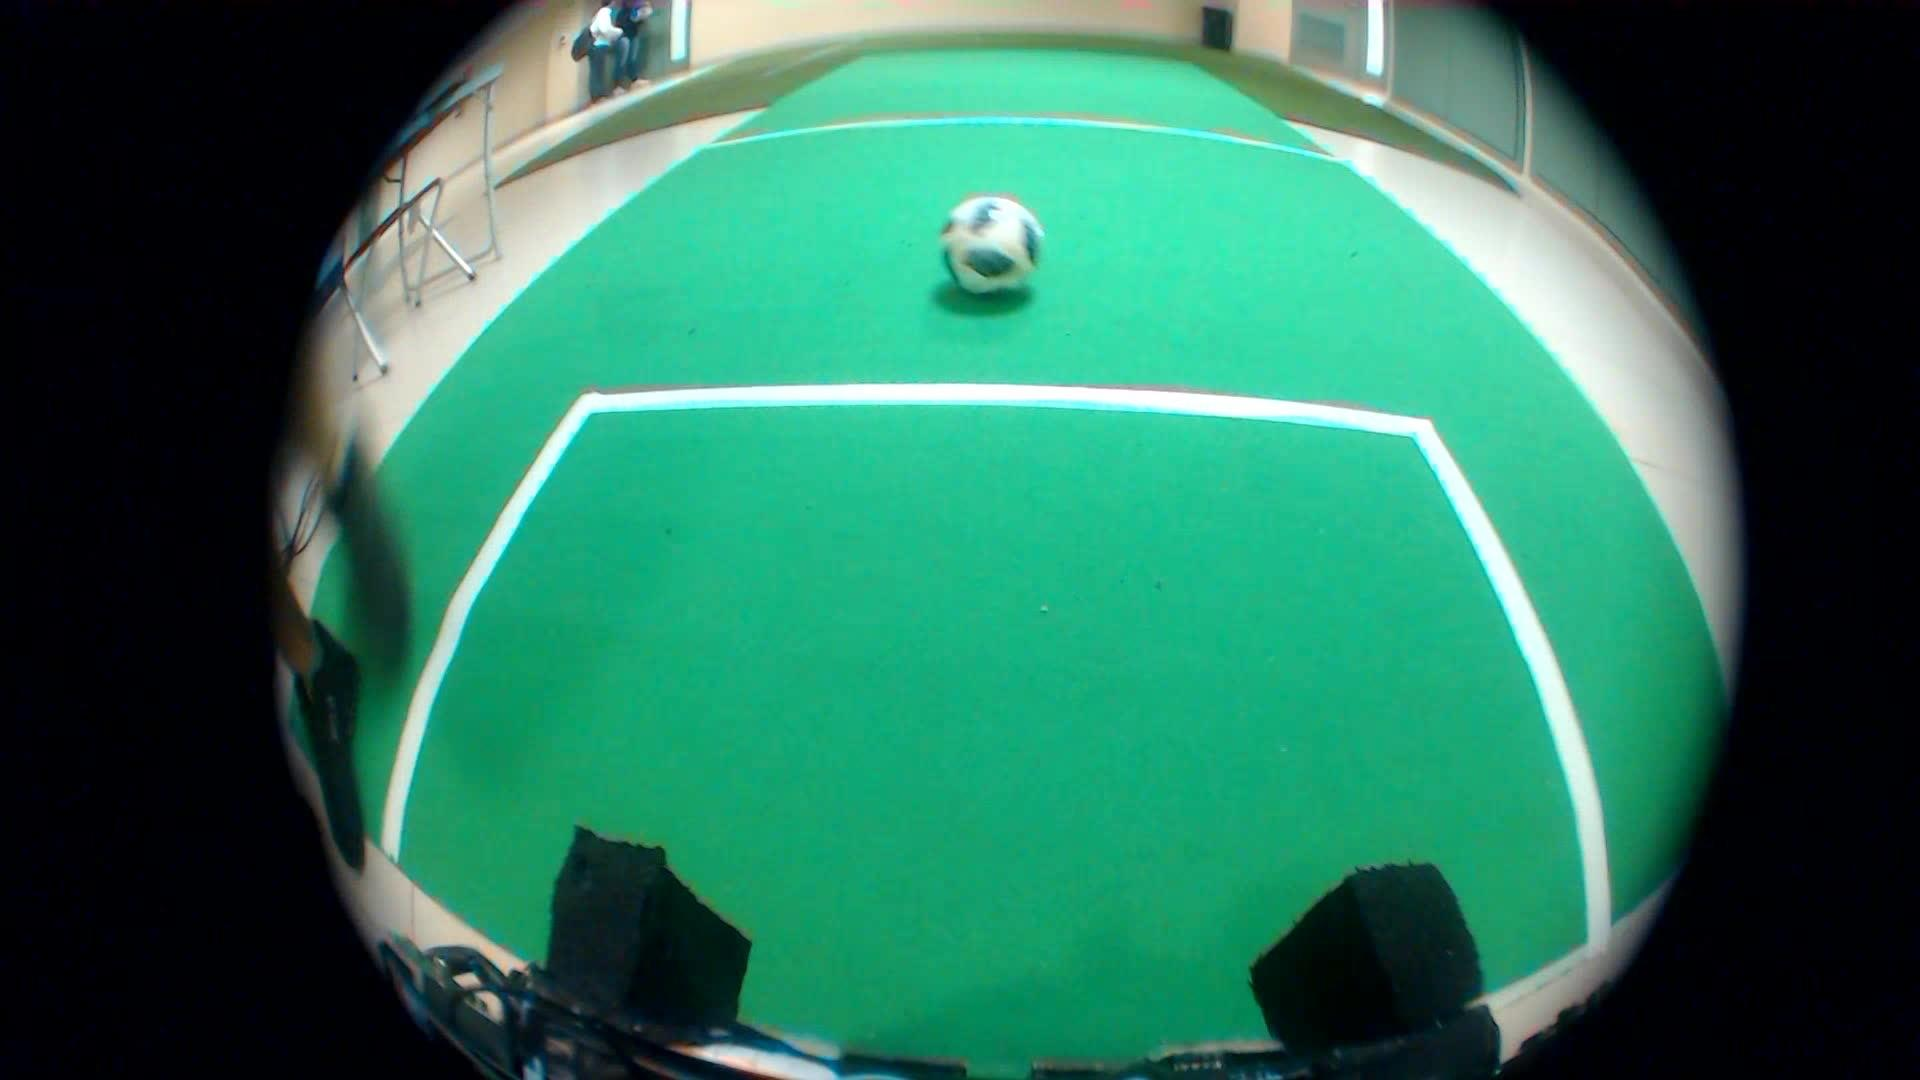ball: (916, 171, 1056, 327)
